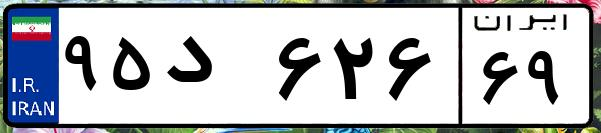2: (330, 28, 385, 110)
5: (110, 28, 158, 98)
6: (270, 28, 330, 110), (385, 28, 445, 110), (475, 38, 525, 113)
9: (57, 26, 110, 100), (525, 38, 570, 115)
د: (158, 20, 270, 120)
